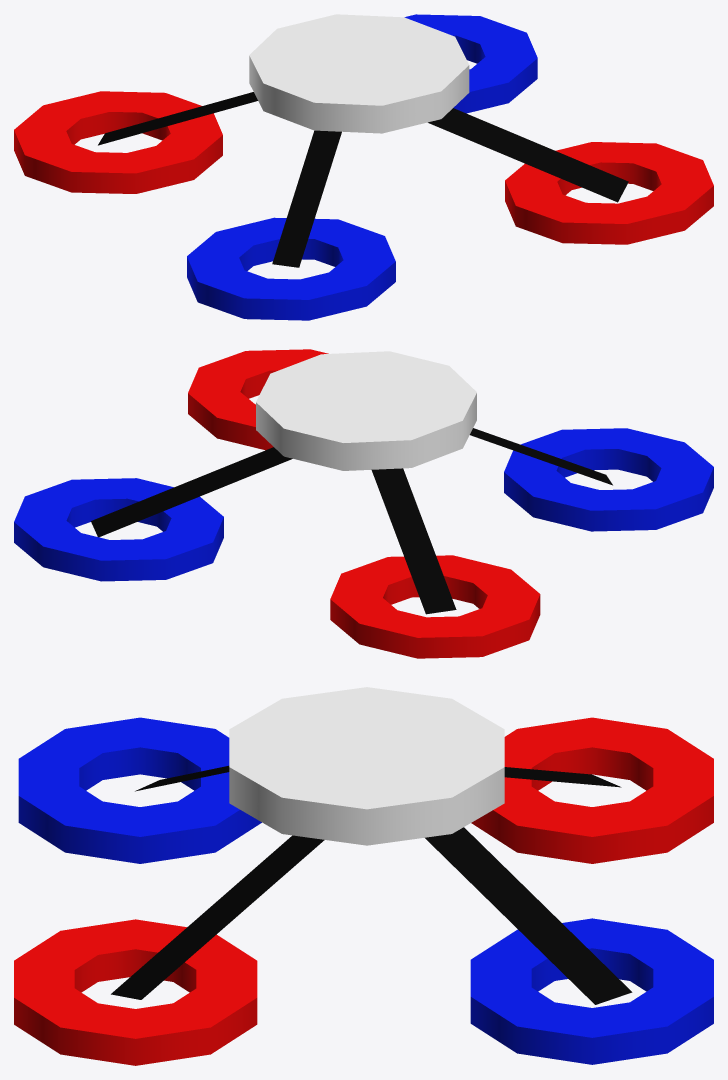
Rendered from dronenew.obj.
3 views of the same model, one above another, from view 1: azimuth 30°, elevation 25°; view 2: azimuth 150°, elevation 25°; view 3: azimuth 270°, elevation 25° (orthographic). The views are drawn at different scales.
Visible parts, largest first — view 1: 004_Cylinder, 006_Tube_1, 005_Tube_4, 007_Tube_3, 008_Tube, 001_SquarePlane_1, 002_SquarePlane_3, 000_SquarePlane_2; view 2: 004_Cylinder, 005_Tube_4, 006_Tube_1, 008_Tube, 007_Tube_3, 000_SquarePlane_2, 003_SquarePlane, 002_SquarePlane_3; view 3: 004_Cylinder, 007_Tube_3, 005_Tube_4, 008_Tube, 006_Tube_1, 003_SquarePlane, 001_SquarePlane_1, 000_SquarePlane_2, 002_SquarePlane_3.
Boxes of the visible parts, bbox=[...] form: 004_Cylinder: bbox=[249, 14, 469, 133]; 006_Tube_1: bbox=[14, 91, 222, 193]; 005_Tube_4: bbox=[187, 217, 395, 320]; 007_Tube_3: bbox=[505, 142, 713, 244]; 008_Tube: bbox=[404, 14, 537, 113]; 001_SquarePlane_1: bbox=[428, 108, 628, 202]; 002_SquarePlane_3: bbox=[272, 130, 341, 267]; 000_SquarePlane_2: bbox=[98, 92, 257, 145]; 004_Cylinder: bbox=[256, 351, 476, 470]; 005_Tube_4: bbox=[504, 428, 713, 531]; 006_Tube_1: bbox=[330, 555, 540, 658]; 008_Tube: bbox=[14, 478, 223, 581]; 007_Tube_3: bbox=[188, 349, 328, 450]; 000_SquarePlane_2: bbox=[371, 468, 456, 614]; 003_SquarePlane: bbox=[91, 447, 292, 537]; 002_SquarePlane_3: bbox=[470, 428, 612, 485]; 004_Cylinder: bbox=[229, 687, 504, 845]; 007_Tube_3: bbox=[14, 919, 257, 1065]; 005_Tube_4: bbox=[18, 717, 261, 863]; 008_Tube: bbox=[470, 918, 713, 1064]; 006_Tube_1: bbox=[471, 717, 713, 863]; 003_SquarePlane: bbox=[425, 827, 632, 1004]; 001_SquarePlane_1: bbox=[111, 835, 324, 999]; 000_SquarePlane_2: bbox=[504, 767, 621, 787]; 002_SquarePlane_3: bbox=[135, 765, 229, 791].
Bounding box in the file's own units: 230 × 51.54 × 211.
